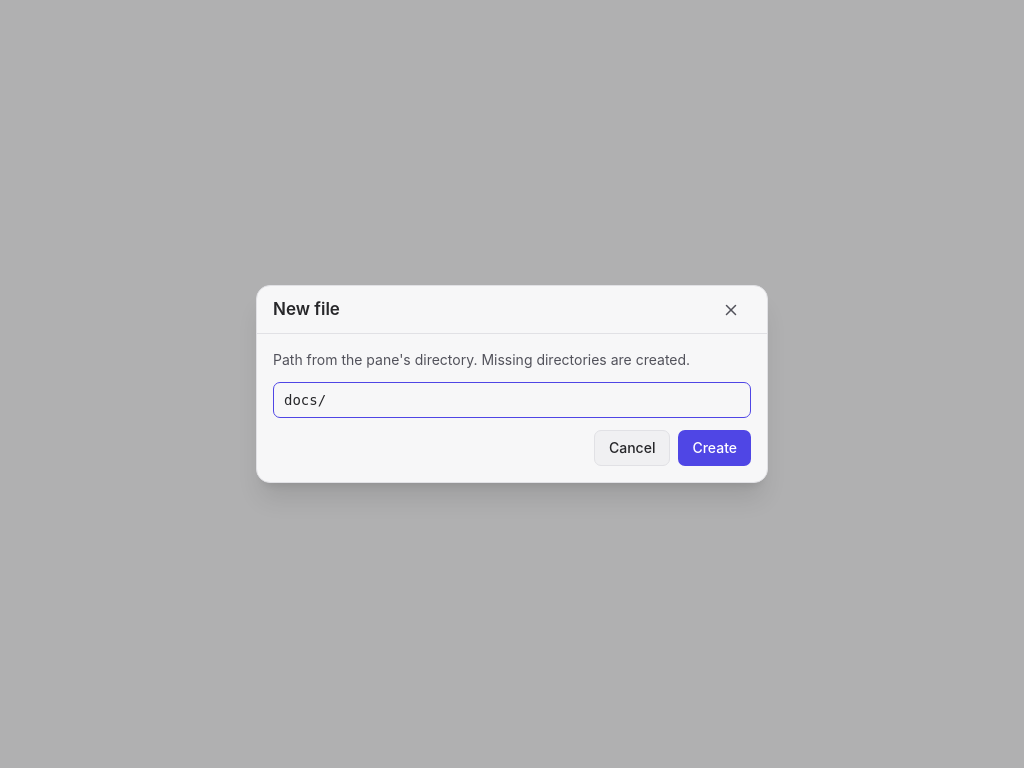
Test: NewFileDialog › docs/ is caught before sending
Click the button "Create" at coordinates (715, 448), box top-left (678, 430), bottom-right (751, 466)
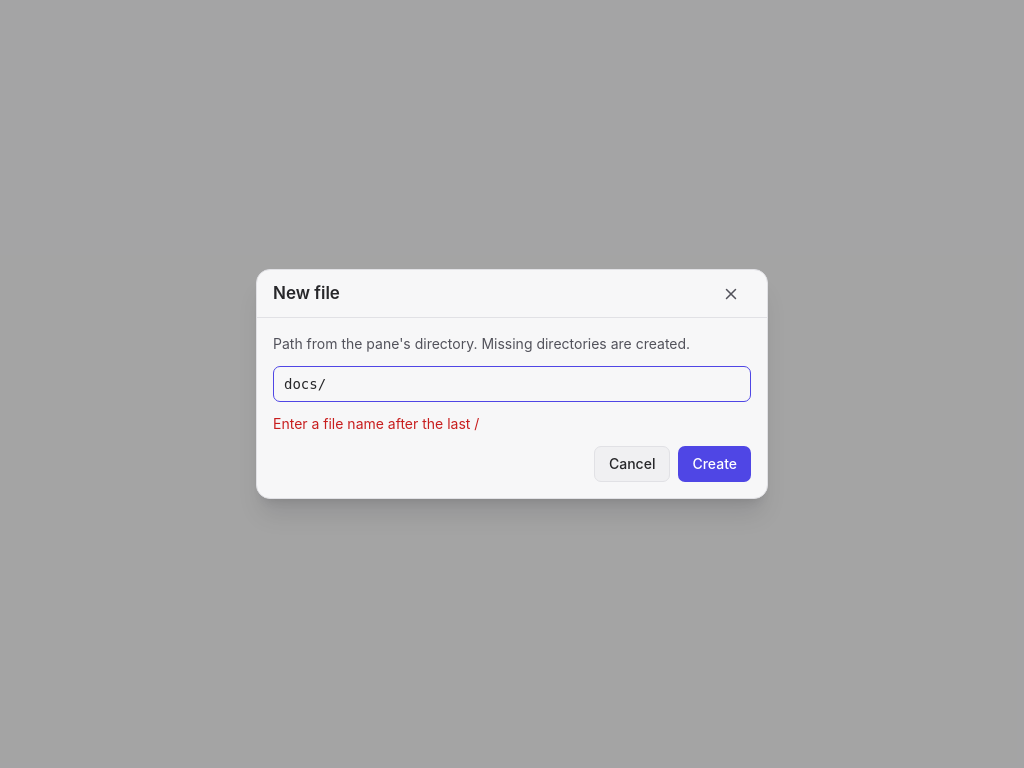
Check: the message reads "Enter a file name after the last /", box top-left (273, 415), bottom-right (479, 432)
Replace the text in the field with "x" at coordinates (512, 384), box top-left (273, 366), bottom-right (751, 402)
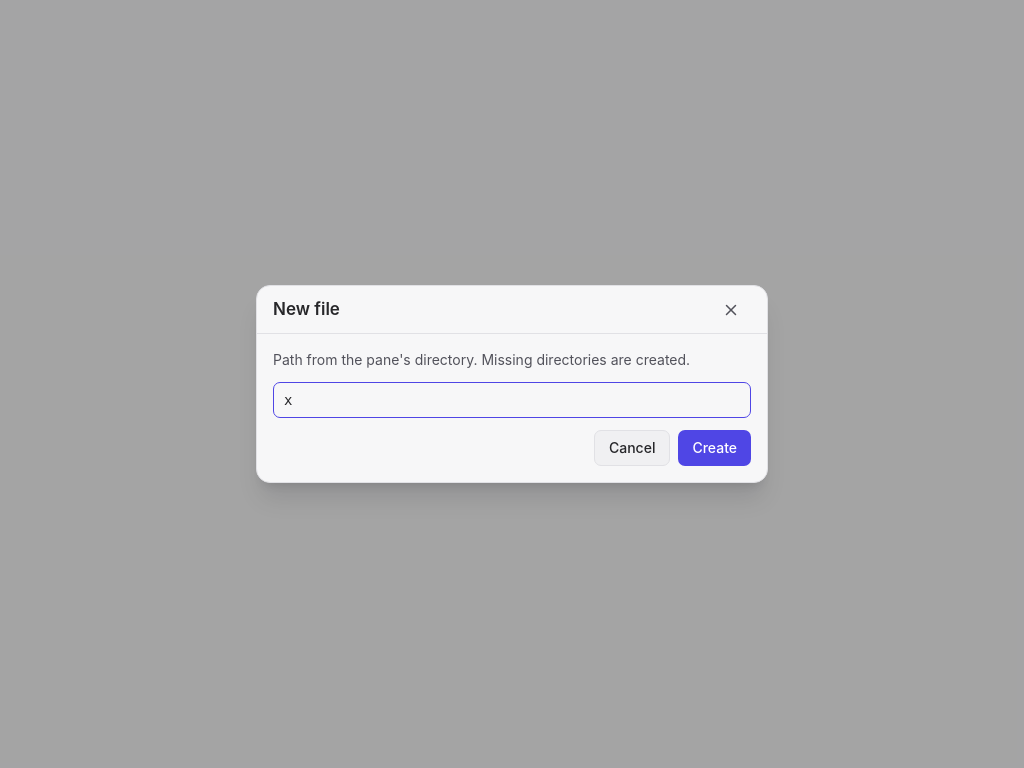
Check: the message "Enter a file name after the last /" is gone
